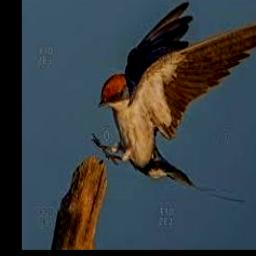Swallow: (92, 1, 256, 203)
